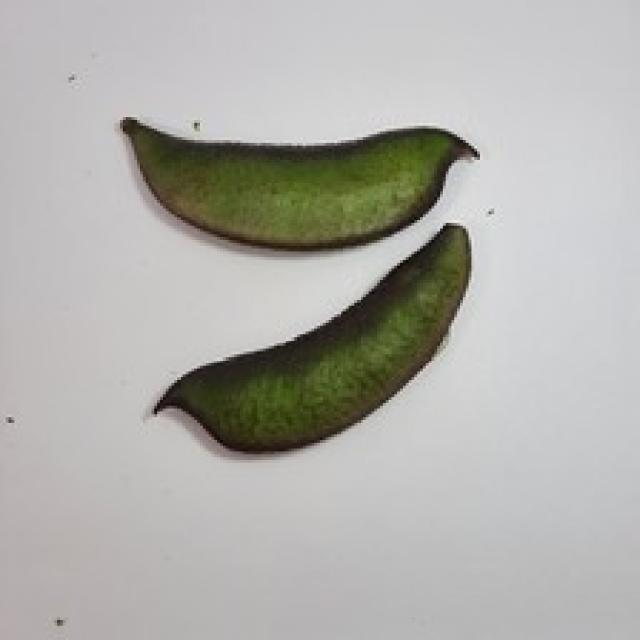Bean: (148, 220, 472, 454), (117, 112, 480, 248)
